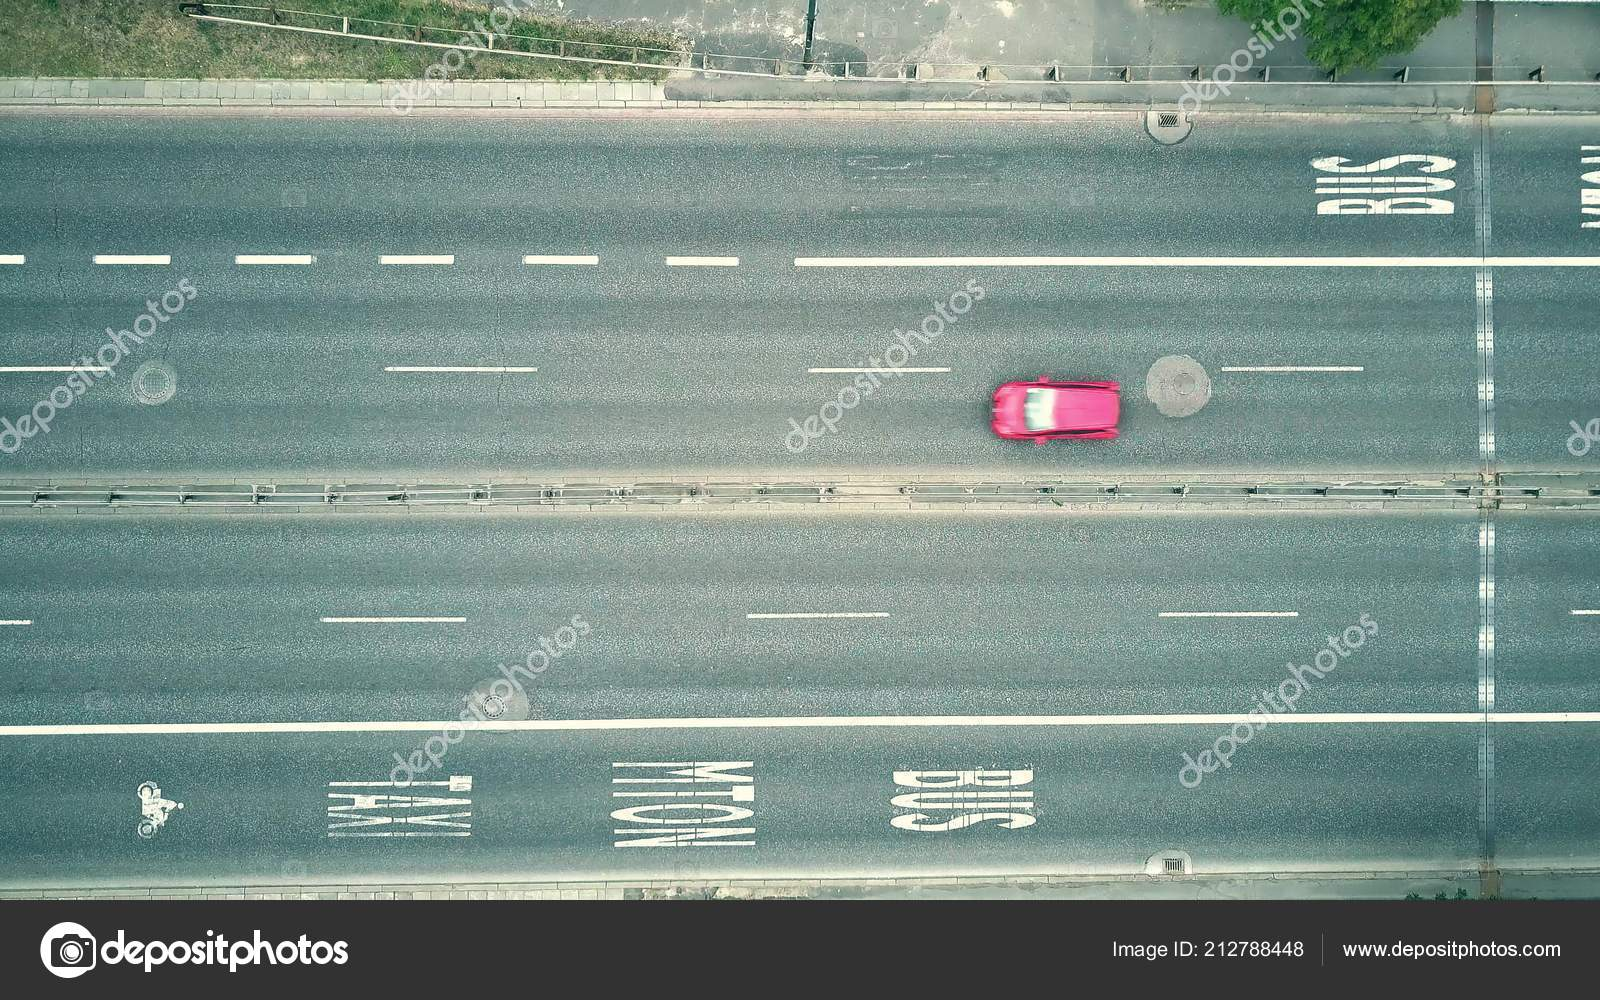LaneMark: (1, 700, 1600, 737), (783, 251, 1600, 272), (1148, 601, 1307, 628), (303, 609, 479, 632), (372, 358, 546, 379), (736, 604, 898, 624), (1210, 361, 1368, 381), (219, 247, 324, 278), (797, 359, 954, 379), (1, 358, 122, 382), (366, 243, 460, 273), (82, 247, 179, 275), (513, 248, 602, 276), (657, 249, 743, 279), (3, 242, 33, 275), (1564, 604, 1600, 626), (1, 613, 39, 631)
